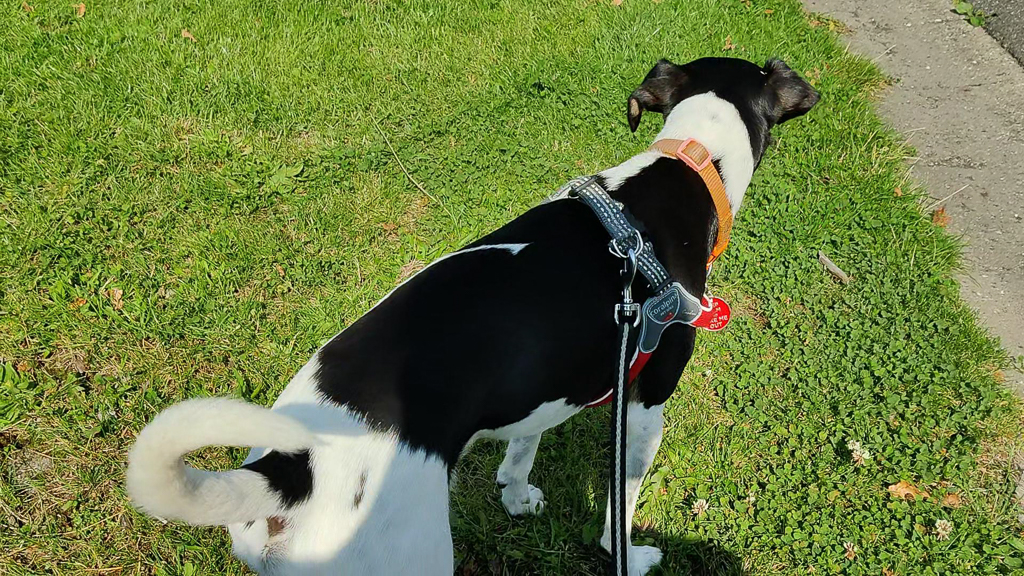Dog: (105, 43, 836, 576)
